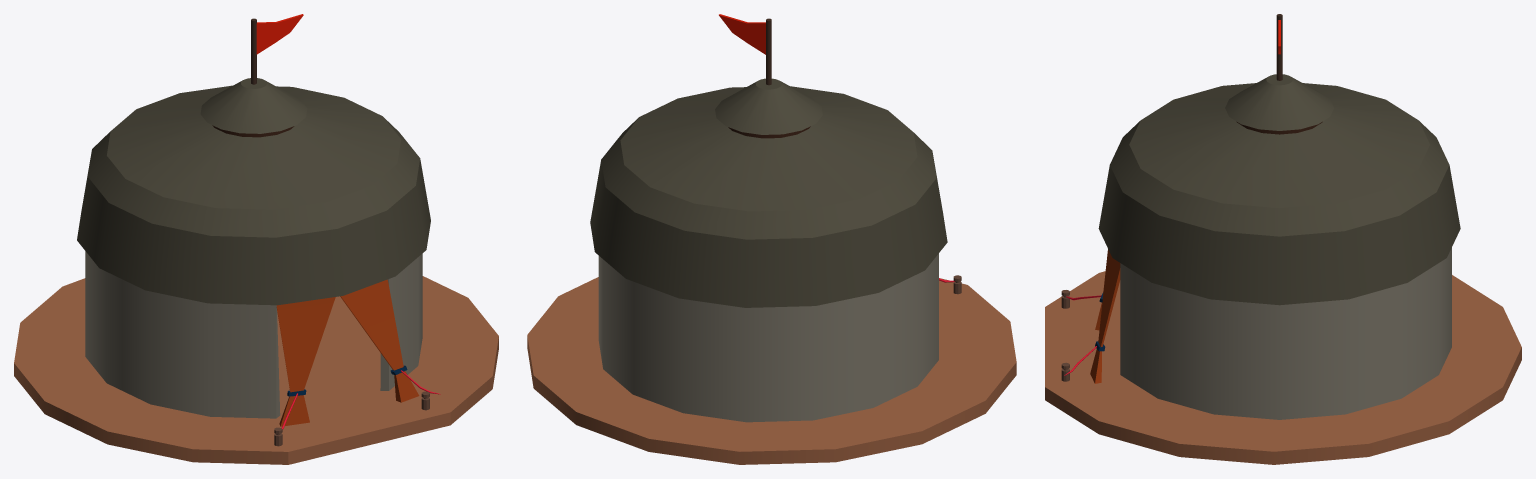
Rendered from ShedHouse6.fbx.
3 renders of one model, left to right at view 1: azimuth 30°, elevation 25°; view 2: azimuth 150°, elevation 25°; view 3: azimuth 270°, elevation 25°, orthographic.
Parts seen in each view (by area): view 1: Circle; view 2: Circle; view 3: Circle.
Boxes of the visible parts, box(x1,y1,x2,y2) form: Circle: box(14, 14, 498, 464); Circle: box(527, 14, 1016, 464); Circle: box(1045, 14, 1521, 464).
Size of the model in its own units: 754 by 580 by 726.
